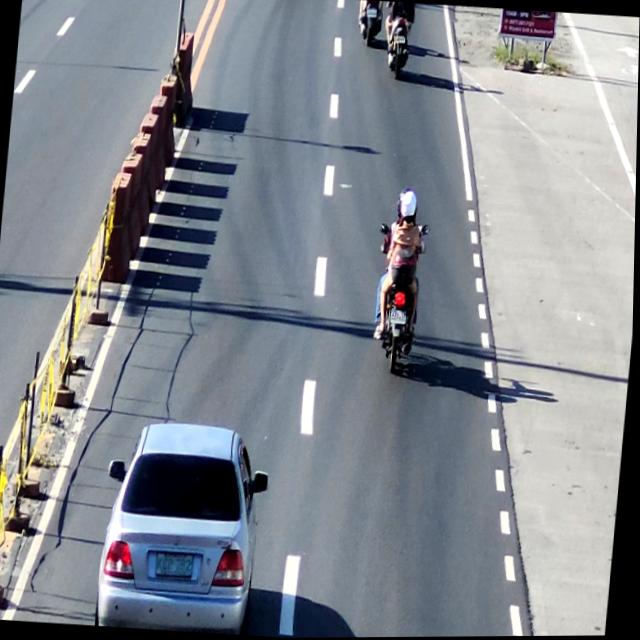Car: (96, 419, 272, 636)
License-Plate: (153, 548, 200, 583), (389, 309, 410, 329), (393, 31, 408, 48)
Motorcycle: (363, 185, 440, 387), (383, 2, 416, 81)
